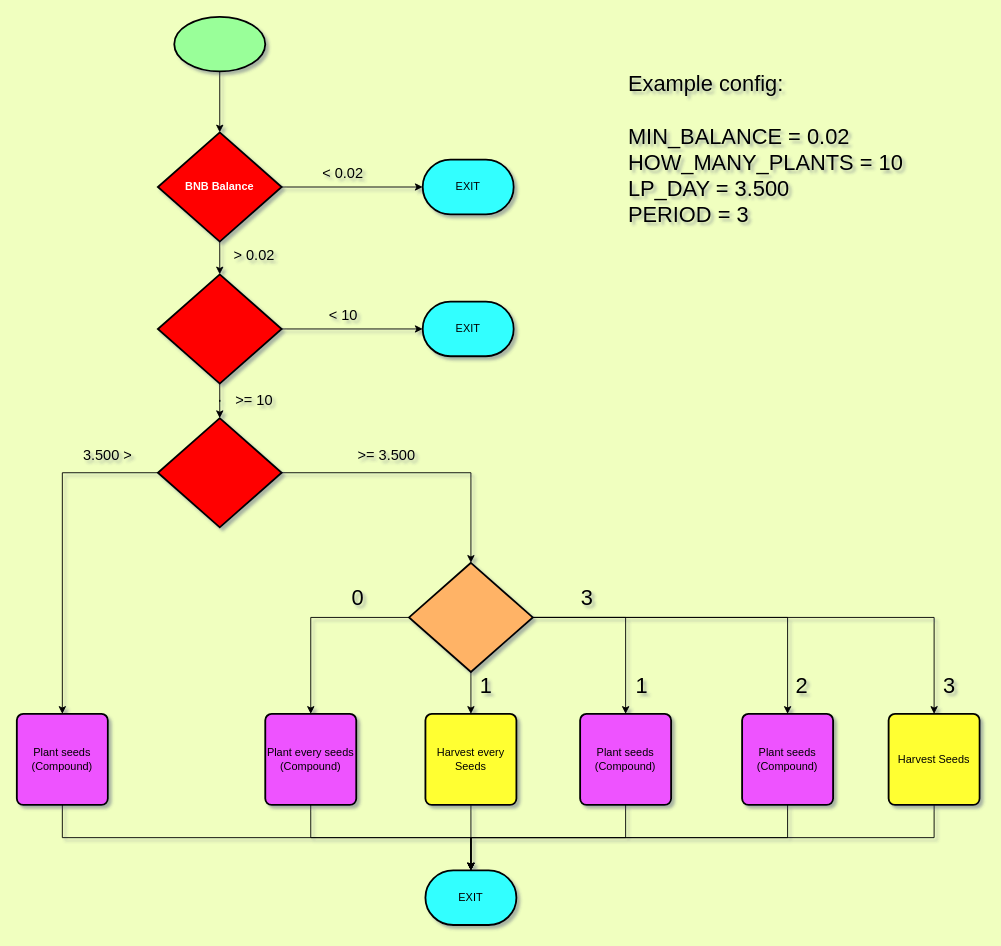
Some shapes in this 1001 by 946 pixel diagram are drawn without their labels. The centre of each missing label's shape, as x and y in pixels:
LP by day: point 219,472
PERIOD: point 470,616
PLANTS ready to compound / sell: point 219,328
Start: point 219,43
